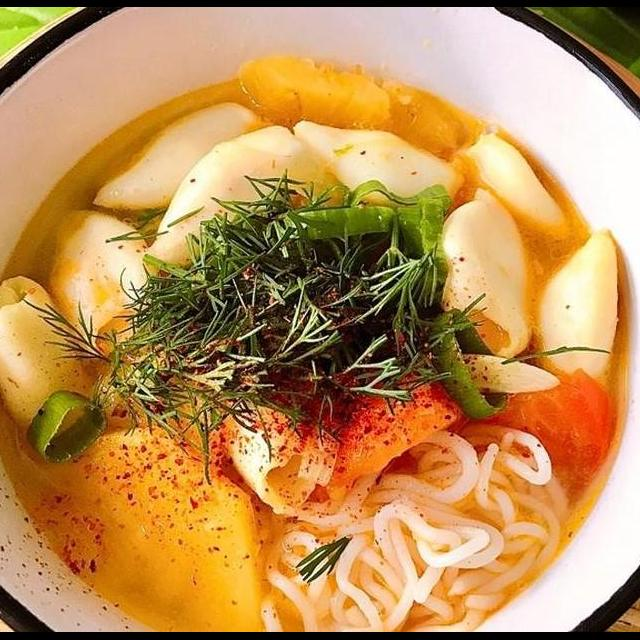bun: (256, 408, 575, 632)
muc: (134, 120, 356, 274), (84, 92, 281, 218), (286, 116, 470, 232), (40, 202, 164, 366), (436, 182, 546, 364), (0, 266, 111, 445), (524, 222, 638, 394), (211, 388, 344, 522), (443, 124, 581, 253)
